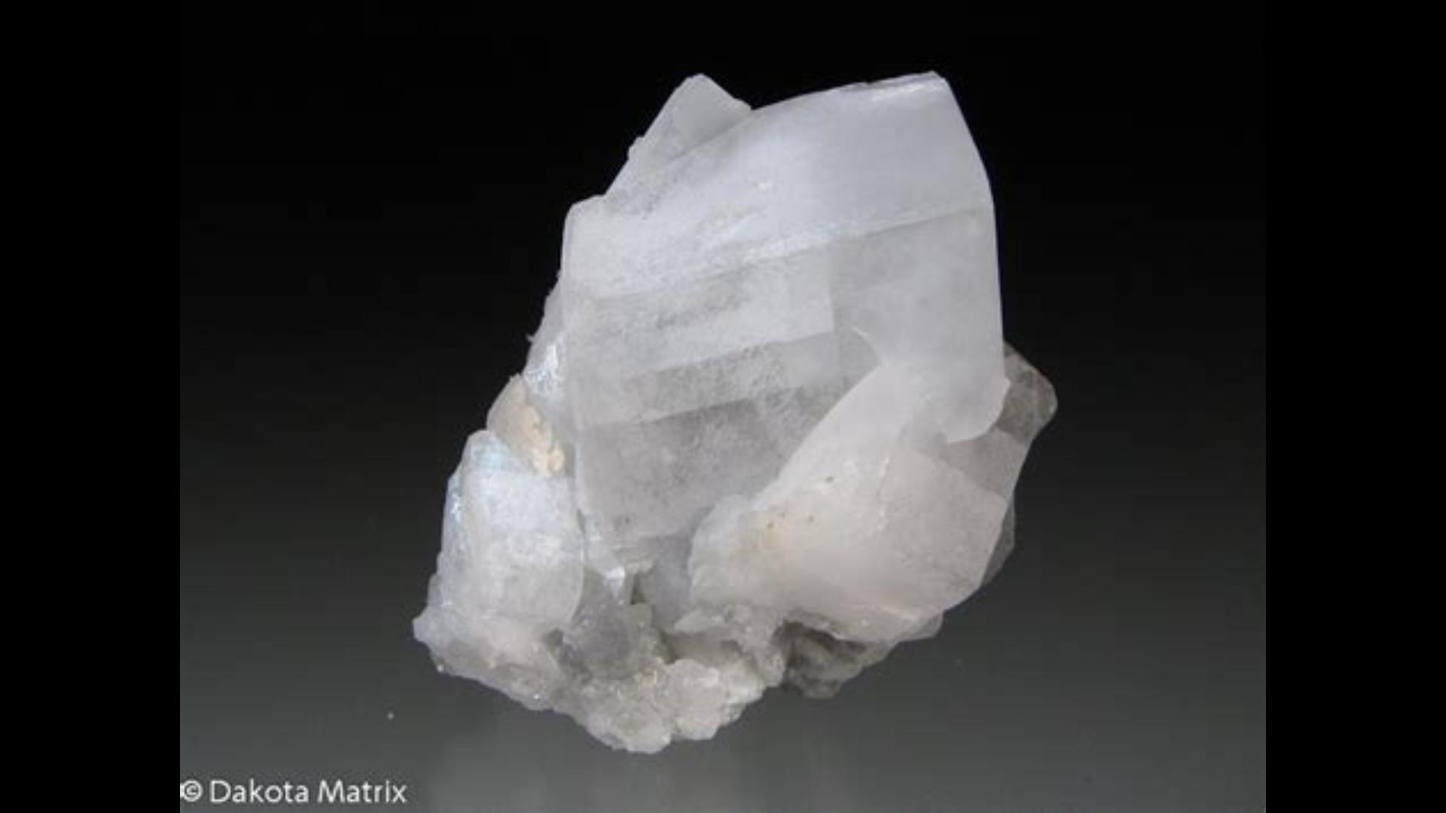rock: (416, 78, 1053, 747)
